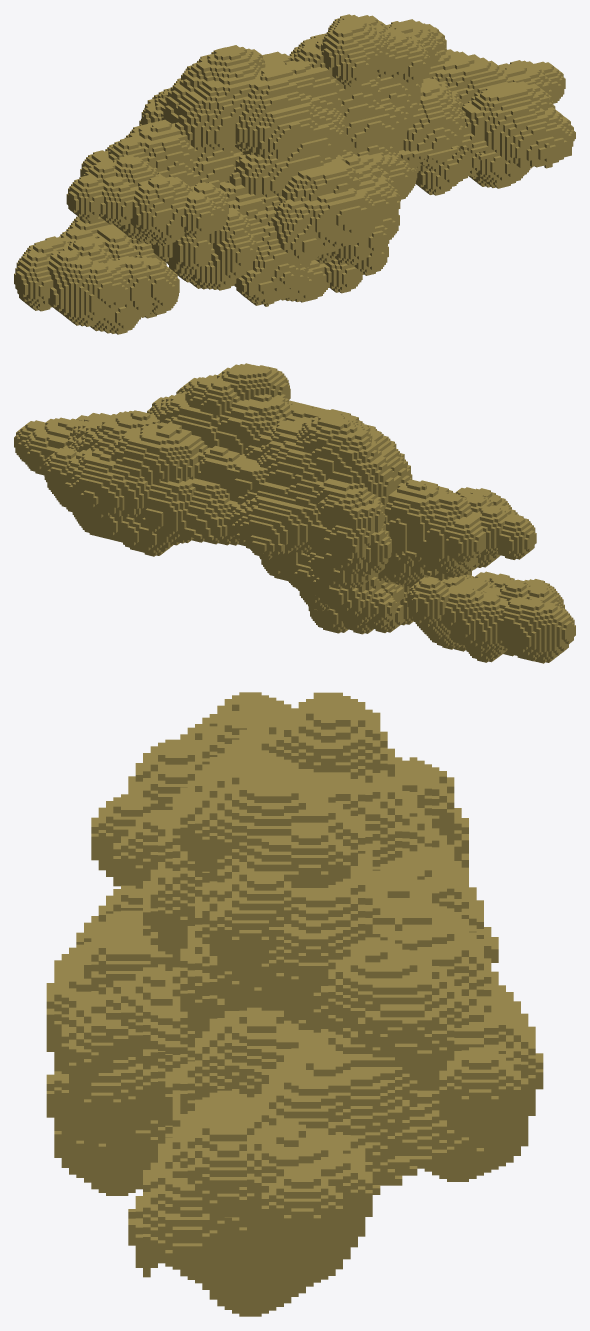
File: forest1.1-87.obj
3 views of the same model, one above another, from view 1: azimuth 30°, elevation 25°; view 2: azimuth 150°, elevation 25°; view 3: azimuth 270°, elevation 25° (orthographic). The views are drawn at different scales.
Bounding box in the file's own units: 17 × 7.1 × 6.7.
1 material, 1 textured.
